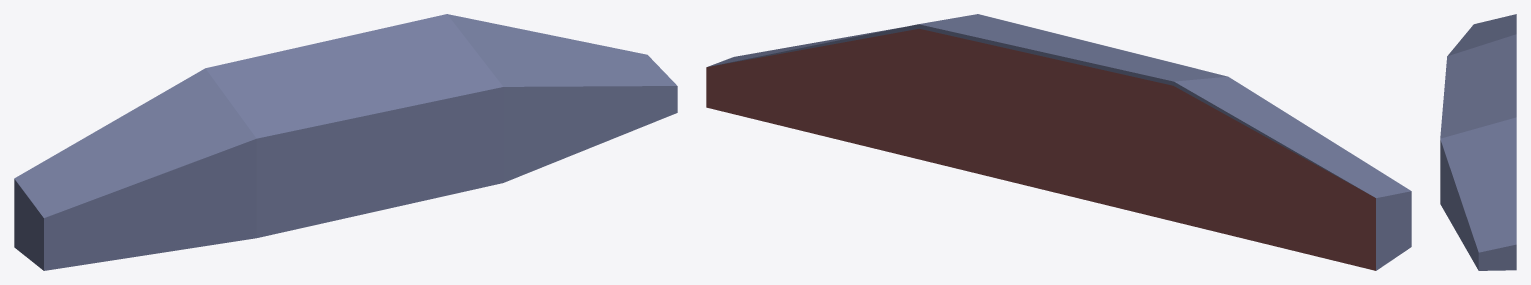
File: tunaTopHalf.fbx
The picture shows the model from 3 angles, left to right: view 1: azimuth 30°, elevation 25°; view 2: azimuth 150°, elevation 25°; view 3: azimuth 270°, elevation 25°; orthographic projection. The views are drawn at different scales.
Parts seen in each view (by area): view 1: tunaTopHalf; view 2: tunaTopHalf; view 3: tunaTopHalf.
Part boxes in pixels (left/top/right/bottom): tunaTopHalf: left=14, top=14, right=677, bottom=270; tunaTopHalf: left=706, top=14, right=1411, bottom=270; tunaTopHalf: left=1440, top=14, right=1516, bottom=270.
Size of the model in its own units: 59.54 by 11.82 by 9.13.
Materials: 1 (1 with a texture image).
